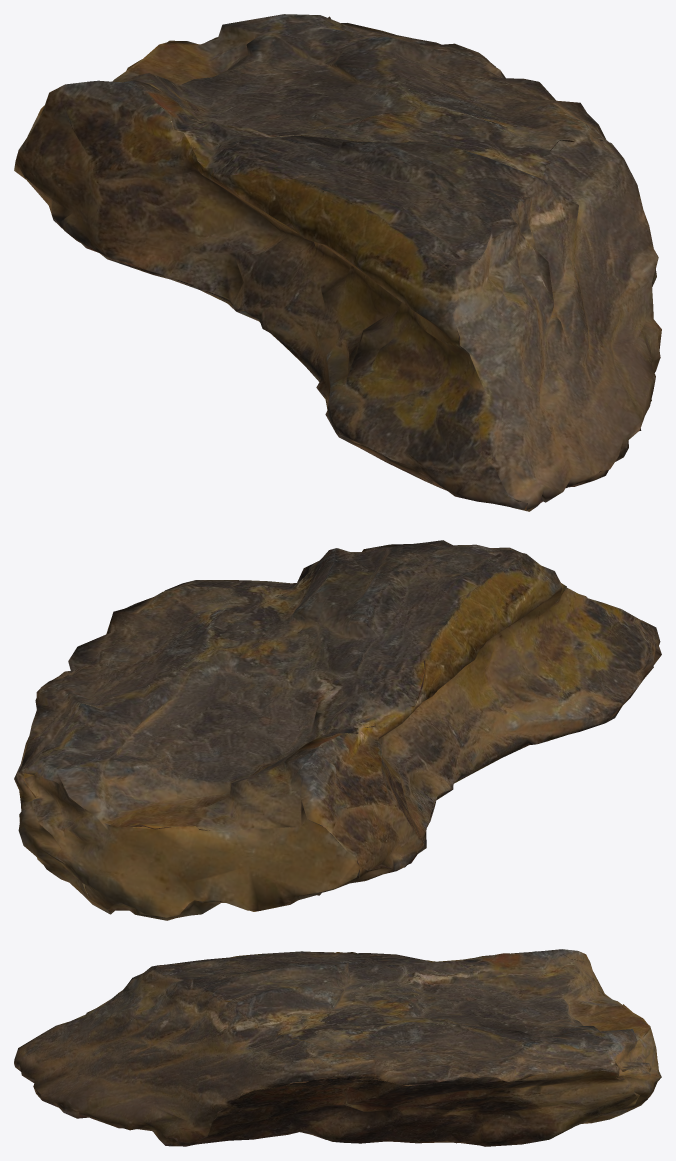
Rendered from rock_09_lod.glb.
3 renders of one model, top to bottom at view 1: azimuth 30°, elevation 25°; view 2: azimuth 150°, elevation 25°; view 3: azimuth 270°, elevation 25°, orthographic. The views are drawn at different scales.
Parts seen in each view (by area): view 1: rock_09_LOD0; view 2: rock_09_LOD0; view 3: rock_09_LOD0.
Part boxes in pixels (<box>): rock_09_LOD0: <box>14,14,661,511</box>; rock_09_LOD0: <box>14,540,661,920</box>; rock_09_LOD0: <box>14,949,661,1146</box>.
Size of the model in its own units: 0.0741 by 0.0326 by 0.1449.
1 material, 1 textured.
